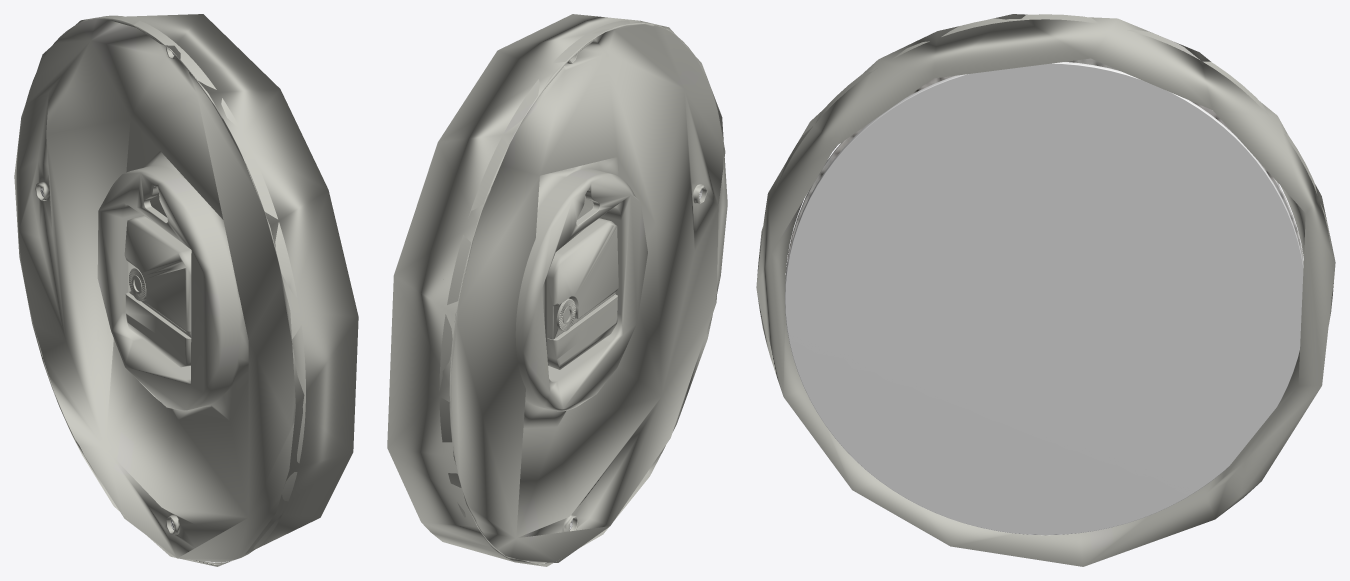
Rendered from decor_wallClock_a01.glb.
The picture shows the model from 3 angles, left to right: view 1: azimuth 30°, elevation 25°; view 2: azimuth 150°, elevation 25°; view 3: azimuth 270°, elevation 25°; orthographic projection. The views are drawn at different scales.
Parts seen in each view (by area): view 1: sm_decor_wallClock_a01_01; view 2: sm_decor_wallClock_a01_01; view 3: sm_decor_wallClock_a01_01.
Part boxes in pixels (x1,y1,x2,y2): sm_decor_wallClock_a01_01: (14,14,358,566); sm_decor_wallClock_a01_01: (387,14,727,566); sm_decor_wallClock_a01_01: (756,14,1335,566).
Bounding box in the file's own units: 0.042 × 0.268 × 0.2693.
Materials: 8 (7 with a texture image).
